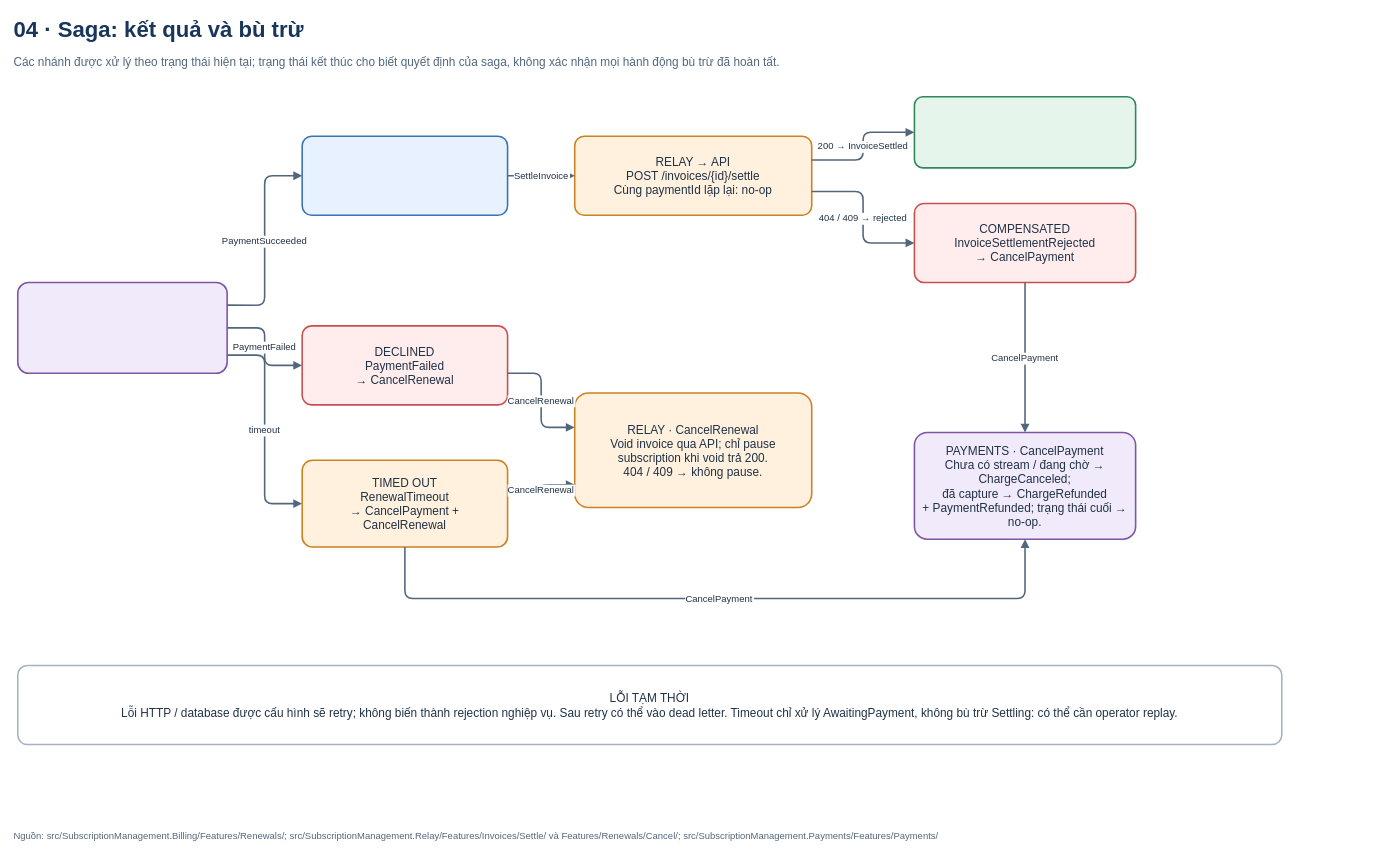
This 1378x866 diagram has some shape labels left out. Each missing label, with the box of its shape:
AWAITING PAYMENT InvoiceIssued → ChargePayment + RenewalTimeout (mặc định 30s): (17, 281, 228, 374)
COMPLETED InvoiceSettled: (913, 96, 1136, 168)
SETTLING PaymentSucceeded → gửi SettleInvoice: (301, 135, 508, 216)
